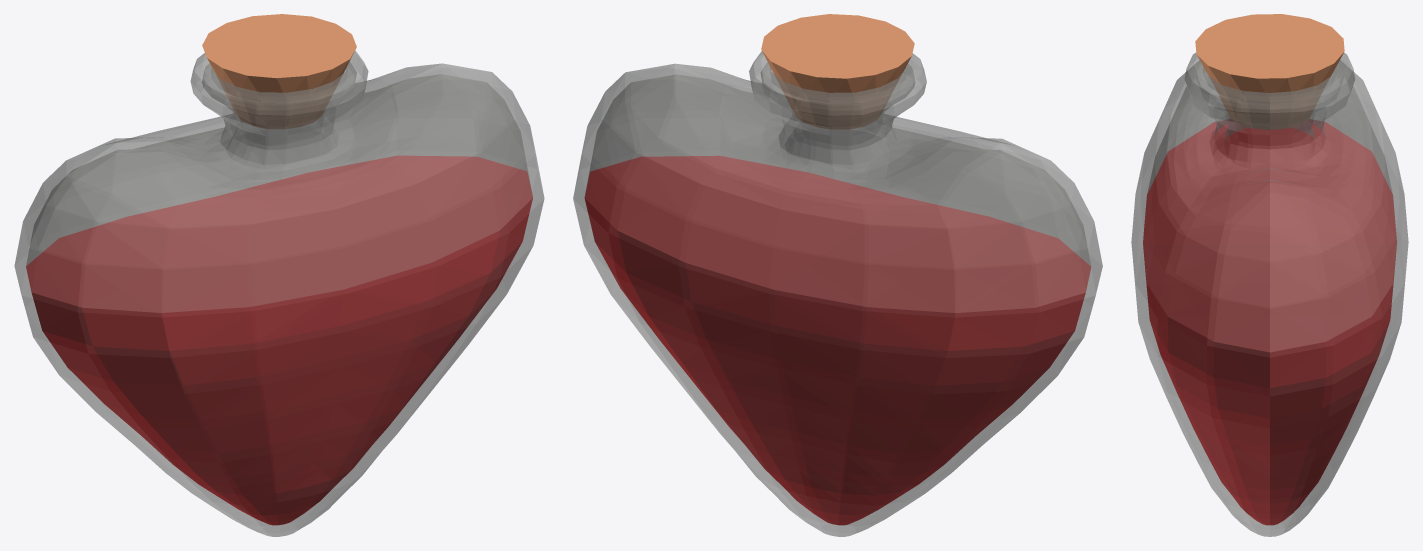
Rendered from LifePotion.dae.
3 views of the same model, side by side, from view 1: azimuth 30°, elevation 25°; view 2: azimuth 150°, elevation 25°; view 3: azimuth 270°, elevation 25° (orthographic).
Visible parts, largest first — view 1: Life_Potion, Life_Potion_001; view 2: Life_Potion, Life_Potion_001; view 3: Life_Potion, Life_Potion_001.
Part boxes in pixels (bbox=[...]): Life_Potion: bbox=[14, 50, 544, 536]; Life_Potion_001: bbox=[202, 14, 356, 128]; Life_Potion: bbox=[573, 51, 1102, 536]; Life_Potion_001: bbox=[761, 14, 914, 129]; Life_Potion: bbox=[1131, 53, 1408, 536]; Life_Potion_001: bbox=[1195, 14, 1344, 129].
Size of the model in its own units: 7.41 by 3.46 by 6.64.
